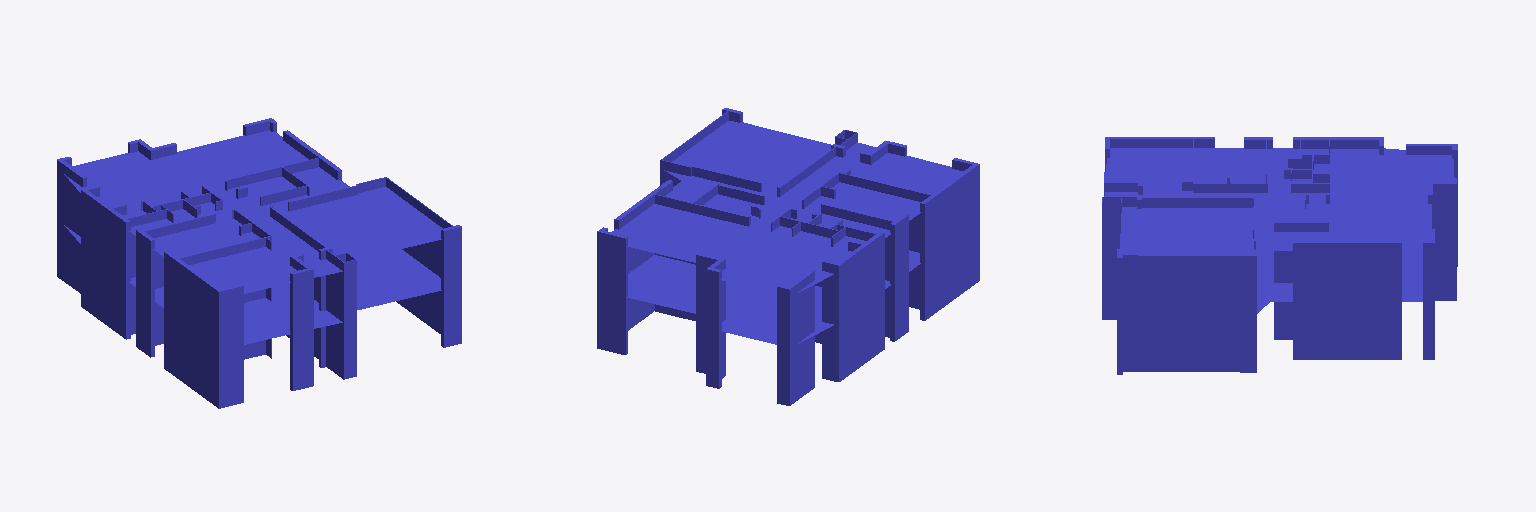
The model's file is scehem_.obj.
3 renders of one model, left to right at view 1: azimuth 30°, elevation 25°; view 2: azimuth 150°, elevation 25°; view 3: azimuth 270°, elevation 25°, orthographic.
Parts seen in each view (by area): view 1: floor_001_ceiling_00, floor_001_walls_01, floor_001_floor_00, floor_001_walls_09, floor_001_walls_28, floor_001_walls_29, floor_001_walls_00, floor_001_walls_08, floor_001_walls_03, floor_001_walls_02, floor_001_walls_11, floor_001_walls_10 (+6 smaller); view 2: floor_001_ceiling_00, floor_001_walls_09, floor_001_walls_01, floor_001_floor_00, floor_001_walls_08, floor_001_walls_06, floor_001_walls_07, floor_001_walls_02, floor_001_walls_11, floor_001_walls_29, floor_001_walls_05, floor_001_walls_23 (+4 smaller); view 3: floor_001_ceiling_00, floor_001_walls_29, floor_001_walls_05, floor_001_walls_07, floor_001_floor_00, floor_001_walls_28, floor_001_walls_24, floor_001_walls_06, floor_001_walls_01, floor_001_walls_27, floor_001_walls_09, floor_001_walls_08 (+2 smaller).
Boxes of the visible parts, x1=… form: floor_001_ceiling_00: x1=64, y1=130, x2=442, y2=293; floor_001_walls_01: x1=164, y1=251, x2=243, y2=408; floor_001_floor_00: x1=64, y1=225, x2=441, y2=344; floor_001_walls_09: x1=81, y1=185, x2=130, y2=339; floor_001_walls_28: x1=326, y1=250, x2=356, y2=379; floor_001_walls_29: x1=288, y1=177, x2=452, y2=333; floor_001_walls_00: x1=290, y1=254, x2=313, y2=390; floor_001_walls_08: x1=57, y1=157, x2=86, y2=293; floor_001_walls_03: x1=441, y1=225, x2=461, y2=347; floor_001_walls_02: x1=136, y1=229, x2=154, y2=357; floor_001_walls_11: x1=179, y1=209, x2=271, y2=359; floor_001_walls_10: x1=143, y1=214, x2=215, y2=345; floor_001_ceiling_00: x1=611, y1=121, x2=962, y2=293; floor_001_walls_09: x1=822, y1=231, x2=884, y2=381; floor_001_walls_01: x1=920, y1=158, x2=979, y2=320; floor_001_floor_00: x1=627, y1=250, x2=920, y2=344; floor_001_walls_08: x1=777, y1=270, x2=814, y2=405; floor_001_walls_06: x1=597, y1=227, x2=627, y2=354; floor_001_walls_07: x1=696, y1=253, x2=725, y2=388; floor_001_walls_02: x1=890, y1=213, x2=908, y2=341; floor_001_walls_11: x1=802, y1=173, x2=930, y2=309; floor_001_walls_29: x1=660, y1=111, x2=761, y2=191; floor_001_walls_05: x1=614, y1=180, x2=672, y2=330; floor_001_walls_23: x1=655, y1=194, x2=750, y2=320; floor_001_ceiling_00: x1=1104, y1=148, x2=1453, y2=262; floor_001_walls_29: x1=1123, y1=207, x2=1256, y2=372; floor_001_walls_05: x1=1293, y1=241, x2=1401, y2=359; floor_001_walls_07: x1=1428, y1=178, x2=1456, y2=300; floor_001_floor_00: x1=1257, y1=251, x2=1422, y2=313; floor_001_walls_28: x1=1102, y1=197, x2=1136, y2=319; floor_001_walls_24: x1=1274, y1=222, x2=1328, y2=339; floor_001_walls_06: x1=1423, y1=229, x2=1434, y2=359; floor_001_walls_01: x1=1105, y1=137, x2=1214, y2=171; floor_001_walls_27: x1=1142, y1=198, x2=1253, y2=207; floor_001_walls_09: x1=1293, y1=137, x2=1383, y2=154; floor_001_walls_08: x1=1406, y1=144, x2=1457, y2=266.
Bounding box in the file's own units: 13.38 × 6 × 16.54.